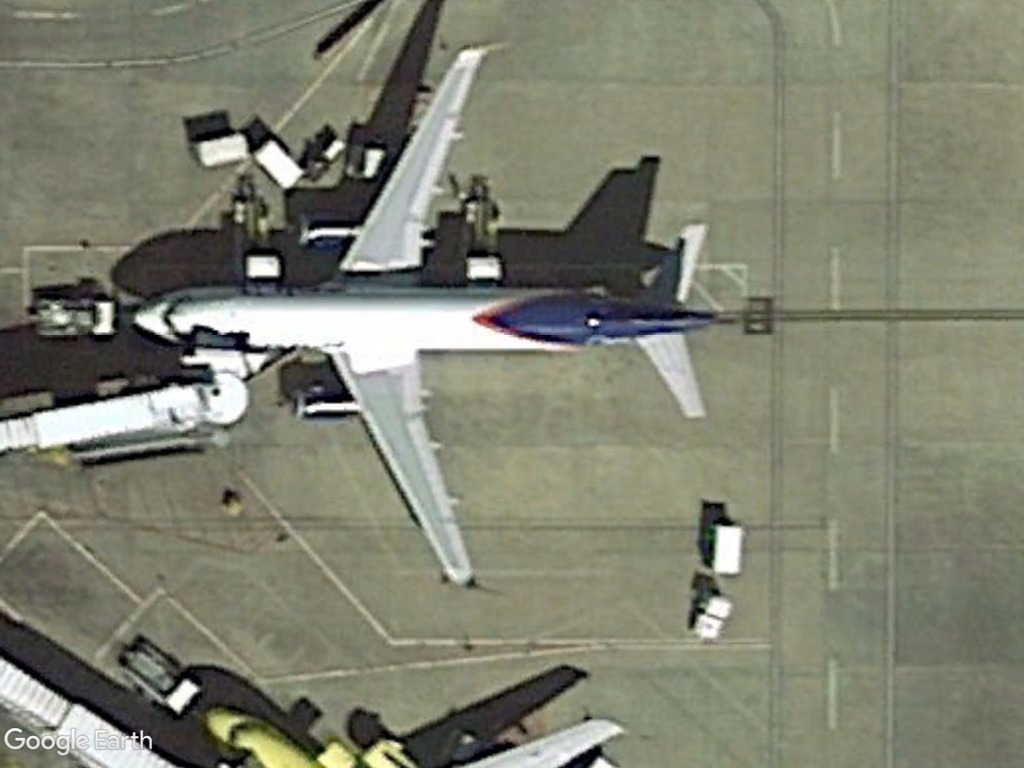airliner: (125, 43, 718, 594)
